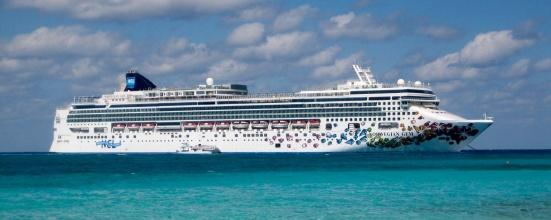youlun: (44, 52, 489, 159)
